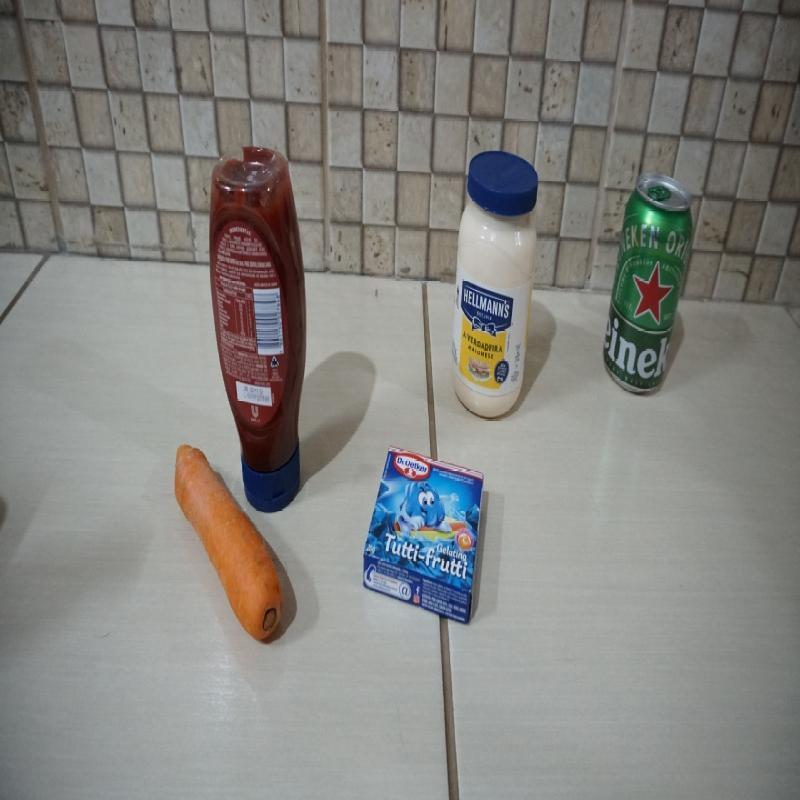Beer can: (601, 171, 693, 397)
Carrot: (173, 442, 285, 646)
Gelatine: (361, 446, 486, 627)
Ketchup: (209, 145, 308, 510)
Mayonnaise: (450, 149, 540, 421)
